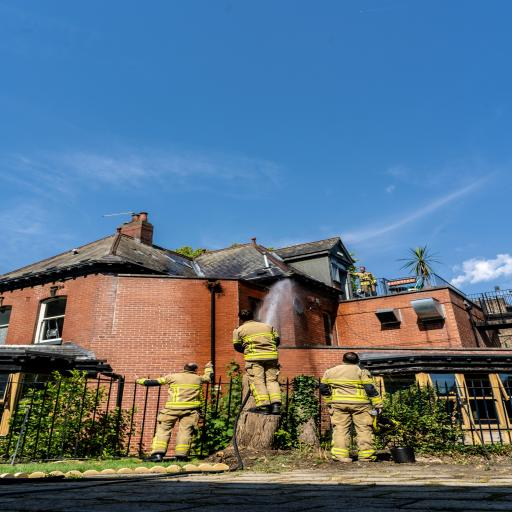buildingfire: (174, 218, 362, 323)
